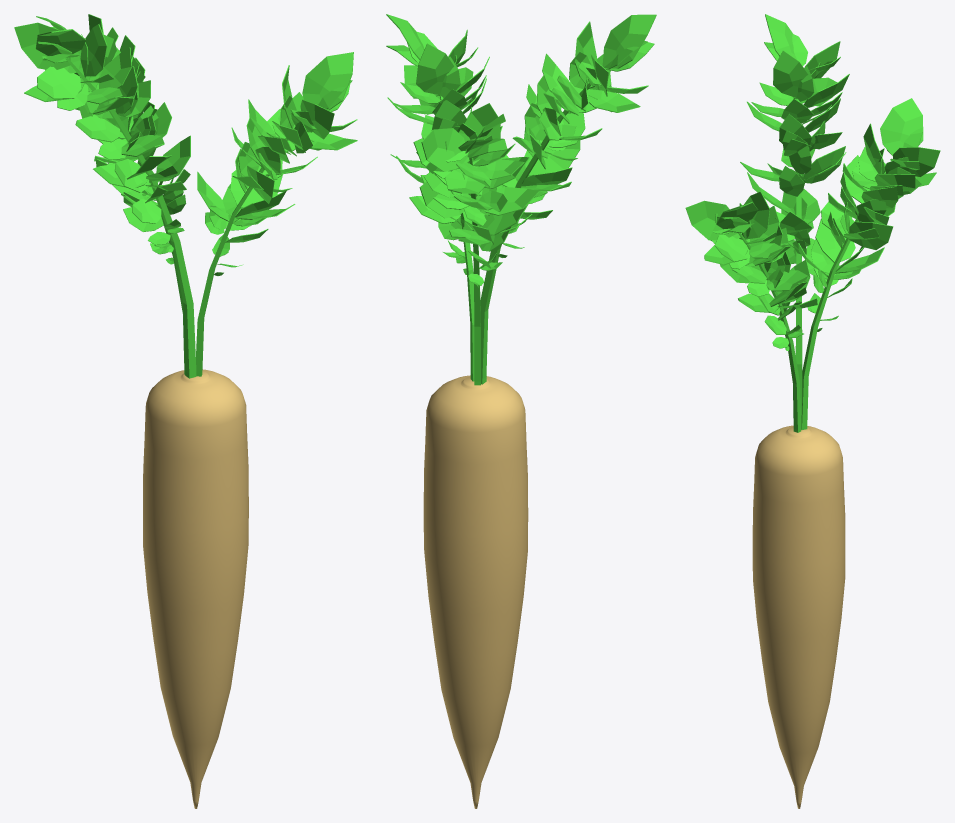
The model's file is CarrotStatue 1.fbx.
3 renders of one model, left to right at view 1: azimuth 30°, elevation 25°; view 2: azimuth 150°, elevation 25°; view 3: azimuth 270°, elevation 25°, orthographic. The views are drawn at different scales.
Parts seen in each view (by area): view 1: Plane.001; view 2: Plane.001; view 3: Plane.001.
Part boxes in pixels (x1,y1,x2,y2): Plane.001: (14,14,357,808); Plane.001: (386,14,656,808); Plane.001: (685,14,940,808).
Size of the model in its own units: 454 by 1225 by 391.
